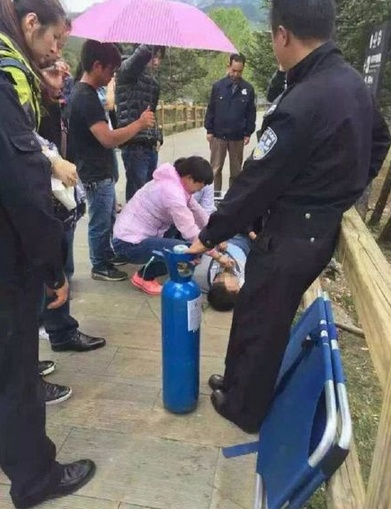falling: (156, 198, 276, 309)
